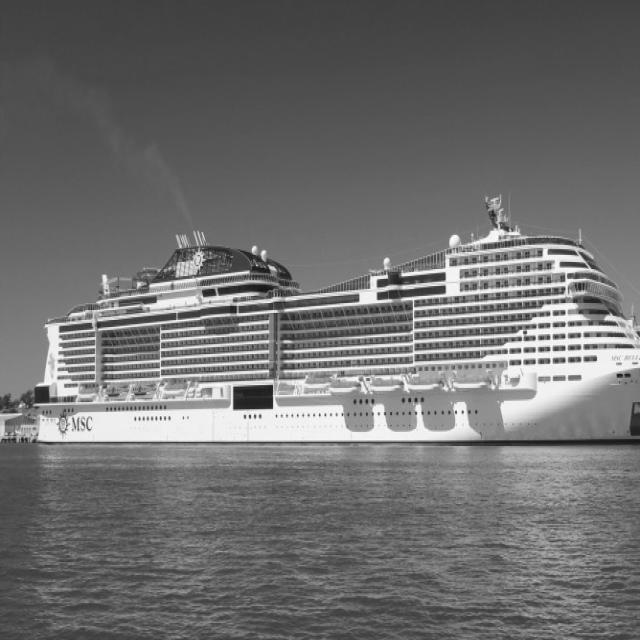cruises: (35, 185, 640, 467)
